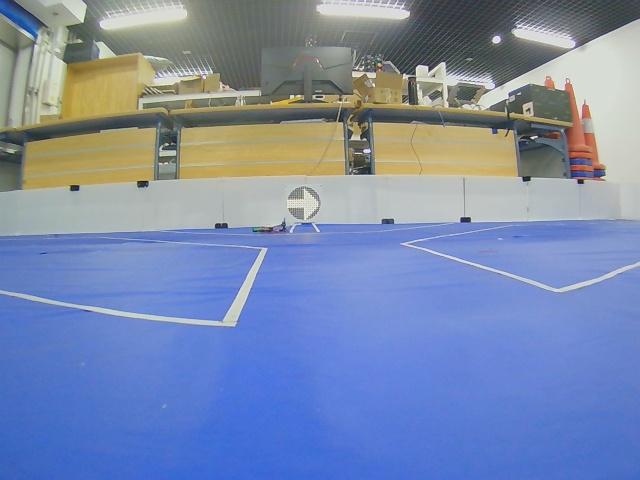right_yellow: (287, 186, 321, 221)
